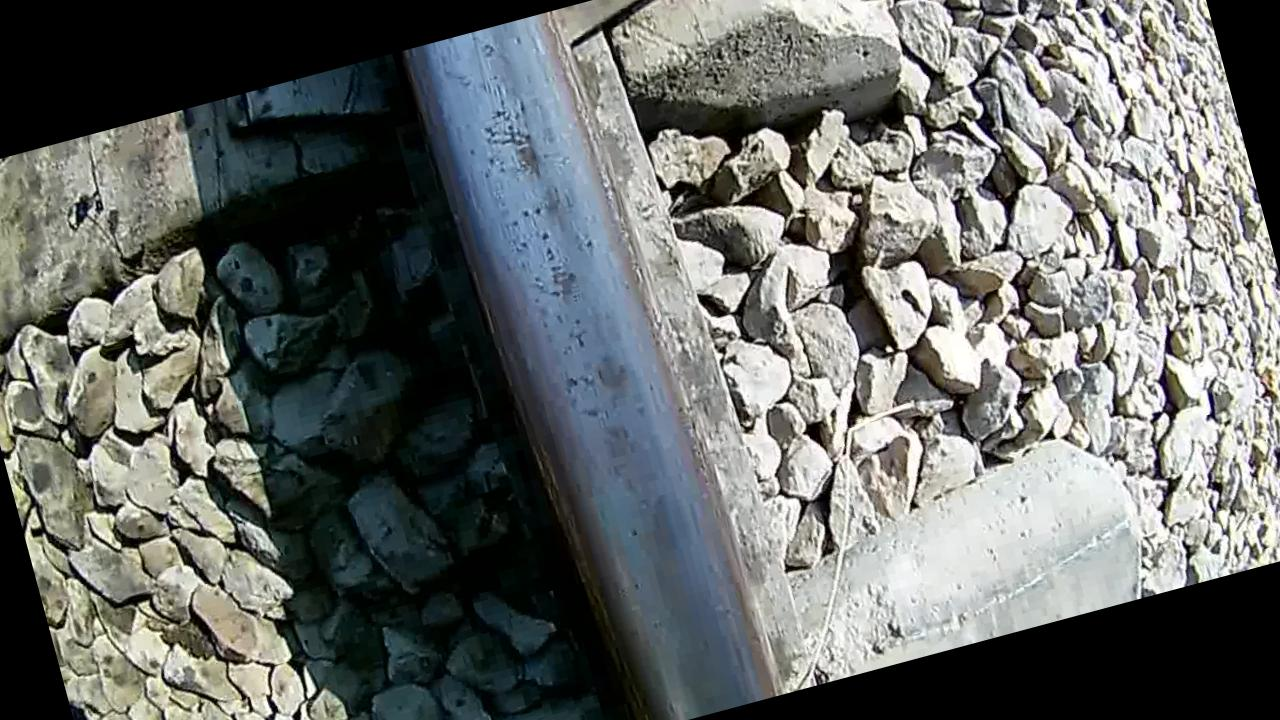crack: (415, 2, 773, 720)
